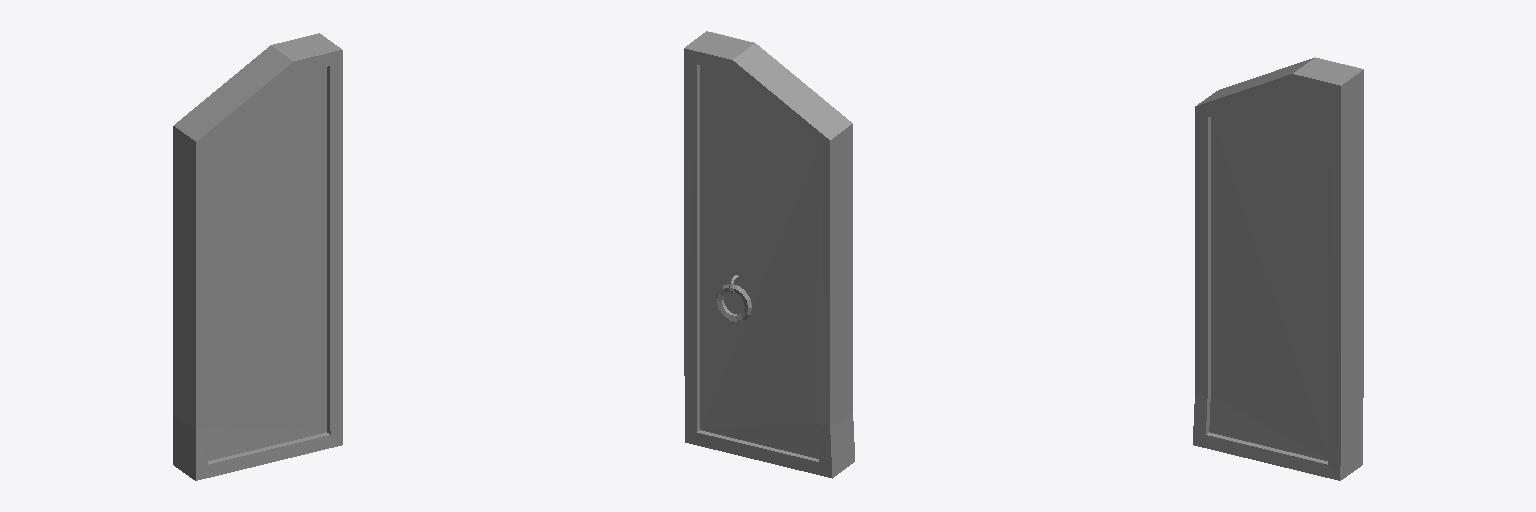
Rendered from ForestCastleDoorR.obj.
3 renders of one model, left to right at view 1: azimuth 30°, elevation 25°; view 2: azimuth 150°, elevation 25°; view 3: azimuth 330°, elevation 25°, orthographic.
Visible parts, largest first — view 1: ForestCastleDoorR; view 2: ForestCastleDoorR; view 3: ForestCastleDoorR.
Part boxes in pixels (left/top/right/bottom): ForestCastleDoorR: left=173, top=33, right=342, bottom=480; ForestCastleDoorR: left=684, top=31, right=854, bottom=478; ForestCastleDoorR: left=1193, top=57, right=1363, bottom=480.
Size of the model in its own units: 162 by 413 by 51.